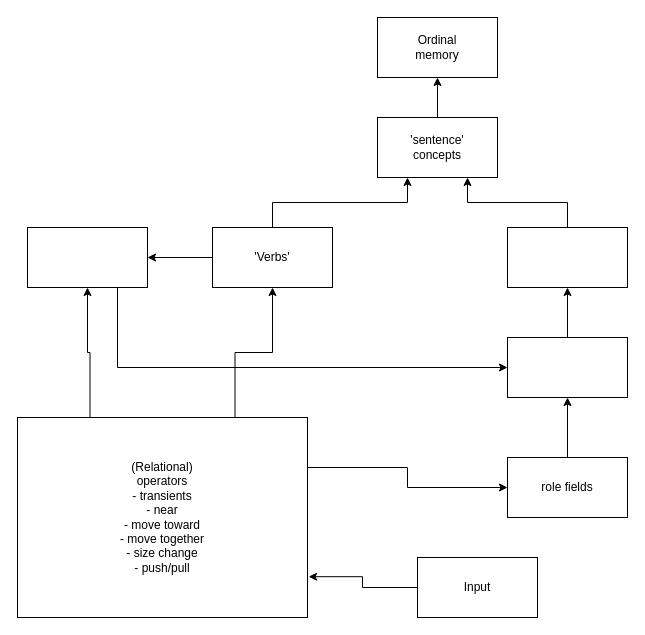
The diagram is 645 pixels wide and 635 high, and some of its shapes have lost their labels. Here are the shapes that lost their labels. From the top down, the centre of each, then its label:
the point at 87,257: Termination conditions
the point at 567,257: 'role-object' concepts
the point at 567,367: bottleneck for binding
